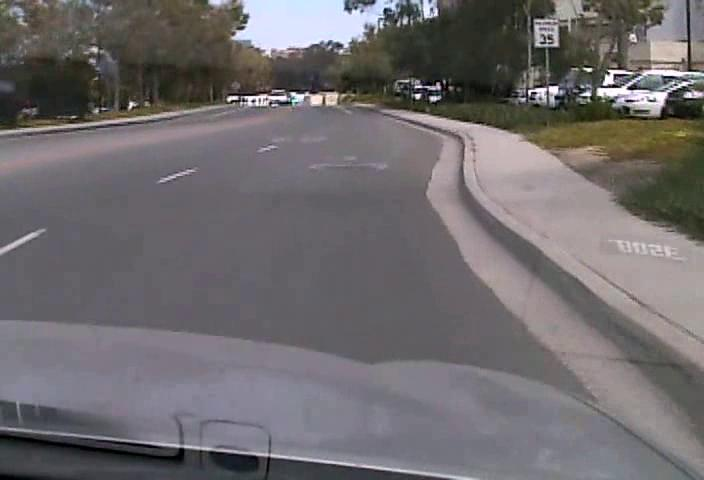speedLimit35: (533, 17, 559, 47)
